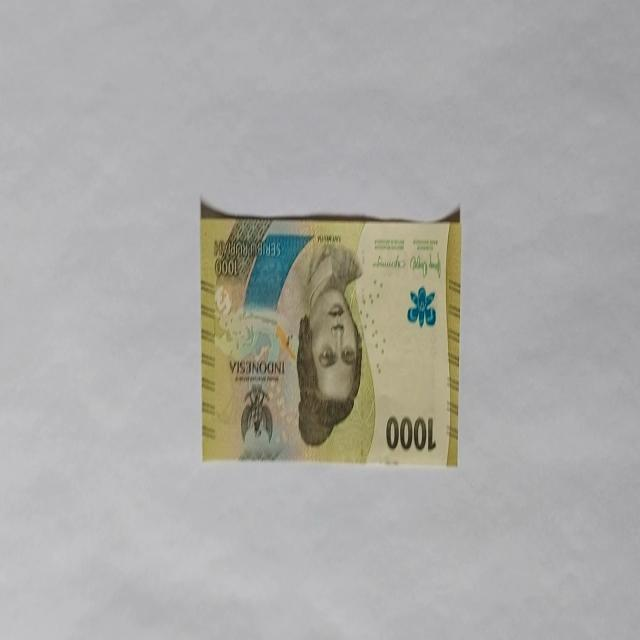seribu rupiah kertas: (200, 204, 462, 466)
